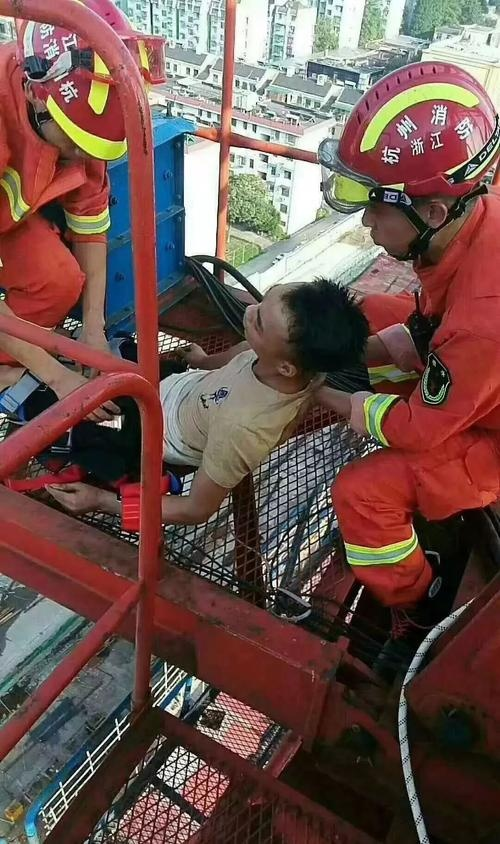falling: (10, 250, 379, 529)
